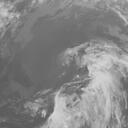cyclone: (52, 43, 117, 112)
